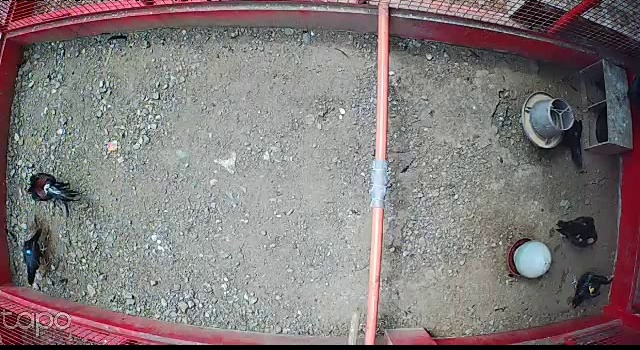Chicken: (556, 211, 601, 252), (569, 272, 616, 309), (21, 227, 49, 287), (560, 116, 586, 169)
Rooster: (26, 171, 84, 213)
Saddle_Color_Blue: (26, 249, 31, 254)
Saddle_Color_Yellow: (588, 284, 594, 295)
